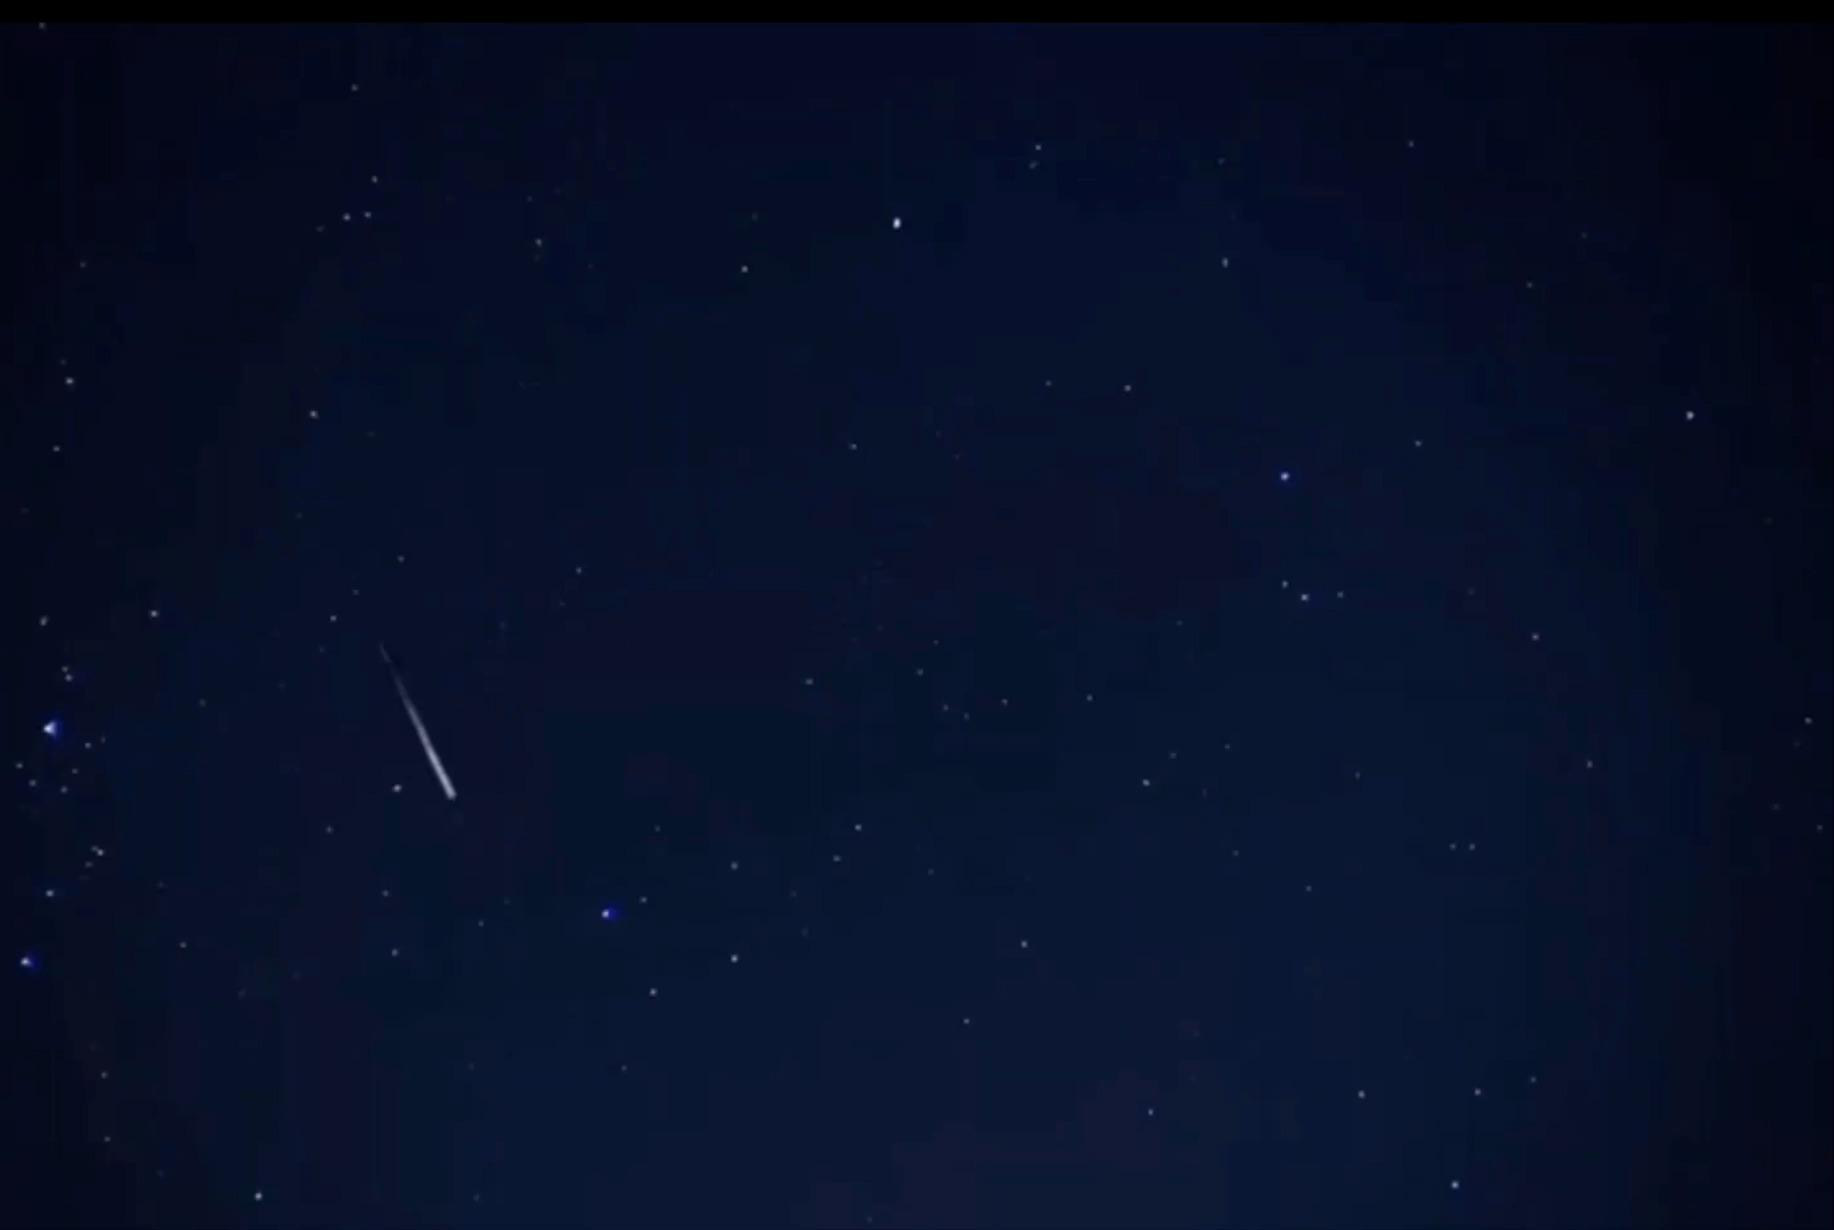meteorite: (313, 636, 534, 817)
